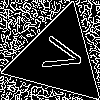V: (32, 32, 85, 77)
